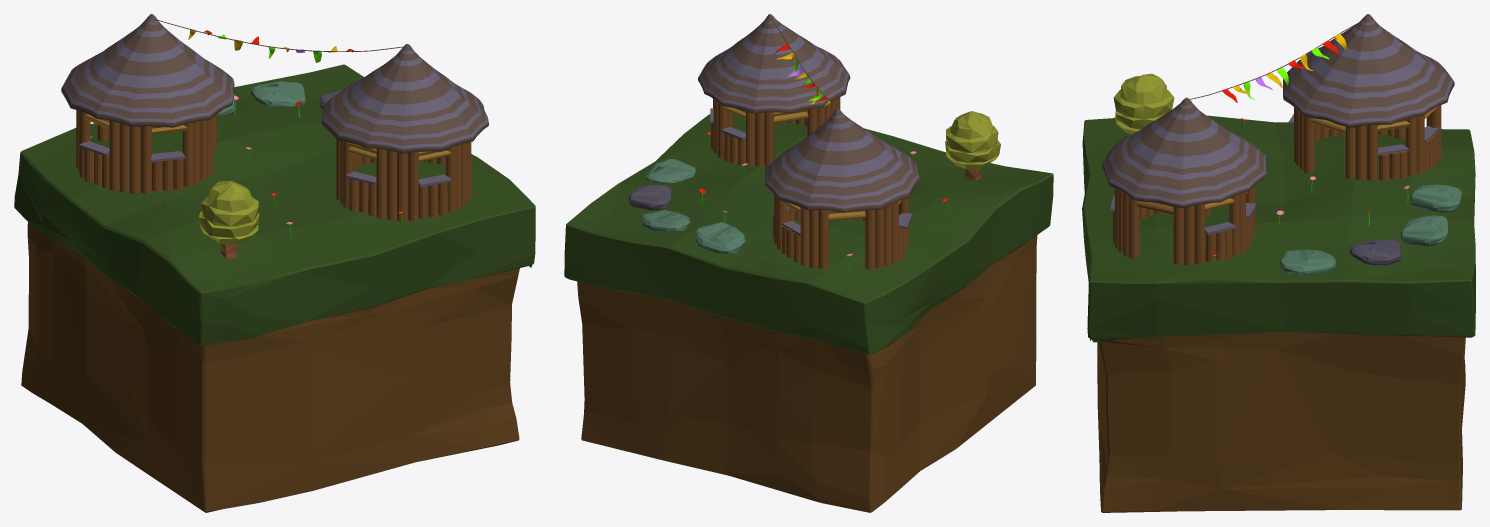
The model's file is tile_playhut.min.gltf.
3 views of the same model, side by side, from view 1: azimuth 30°, elevation 25°; view 2: azimuth 150°, elevation 25°; view 3: azimuth 270°, elevation 25° (orthographic). The views are drawn at different scales.
Visible parts, largest first — view 1: CENTERED.014, roof.001, roof.000, Cylinder.044, Cylinder.046, Circle.022, Box001.006; view 2: CENTERED.014, roof.001, roof.000, Cylinder.046, Cylinder.044, Circle.022, Box001.002, Box001.007, Box001.008, Box001.006; view 3: CENTERED.014, roof.001, roof.000, Cylinder.046, Cylinder.044, Circle.022, Box001.006, Box001.008, Box001.002, Box001.007, confetti hanging.002, Cylinder.049 (+1 smaller).
Boxes of the visible parts, x1=… form: CENTERED.014: x1=14, y1=64, x2=535, y2=512; roof.001: x1=61, y1=14, x2=234, y2=127; roof.000: x1=321, y1=44, x2=488, y2=153; Cylinder.044: x1=336, y1=139, x2=471, y2=221; Cylinder.046: x1=76, y1=56, x2=217, y2=193; Circle.022: x1=198, y1=181, x2=259, y2=258; Box001.006: x1=251, y1=81, x2=305, y2=106; CENTERED.014: x1=564, y1=108, x2=1053, y2=512; roof.001: x1=765, y1=108, x2=919, y2=212; roof.000: x1=698, y1=14, x2=850, y2=113; Cylinder.046: x1=773, y1=159, x2=908, y2=269; Cylinder.044: x1=710, y1=97, x2=840, y2=167; Circle.022: x1=945, y1=111, x2=1000, y2=180; Box001.002: x1=695, y1=222, x2=745, y2=254; Box001.007: x1=629, y1=184, x2=671, y2=210; Box001.008: x1=646, y1=159, x2=695, y2=183; Box001.006: x1=642, y1=210, x2=690, y2=232; CENTERED.014: x1=1082, y1=115, x2=1475, y2=512; roof.001: x1=1283, y1=14, x2=1454, y2=127; roof.000: x1=1101, y1=97, x2=1266, y2=207; Cylinder.046: x1=1294, y1=105, x2=1441, y2=180; Cylinder.044: x1=1112, y1=152, x2=1255, y2=265; Circle.022: x1=1113, y1=73, x2=1174, y2=134; Box001.006: x1=1400, y1=215, x2=1448, y2=246; Box001.008: x1=1279, y1=249, x2=1335, y2=275; Box001.002: x1=1410, y1=184, x2=1461, y2=212; Box001.007: x1=1349, y1=239, x2=1401, y2=265; confetti hanging.002: x1=1222, y1=33, x2=1346, y2=102; Cylinder.049: x1=1311, y1=106, x2=1438, y2=133.
Bounding box in the file's own units: 1.09 × 1.16 × 1.07.
